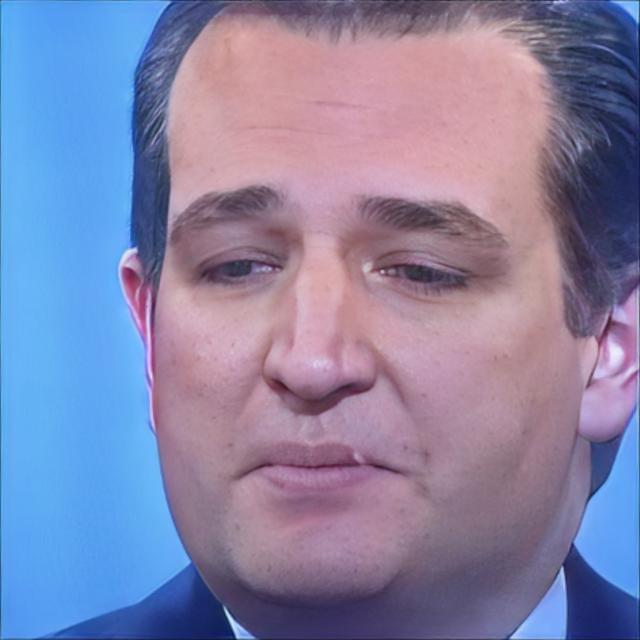sad: (149, 28, 578, 608)
